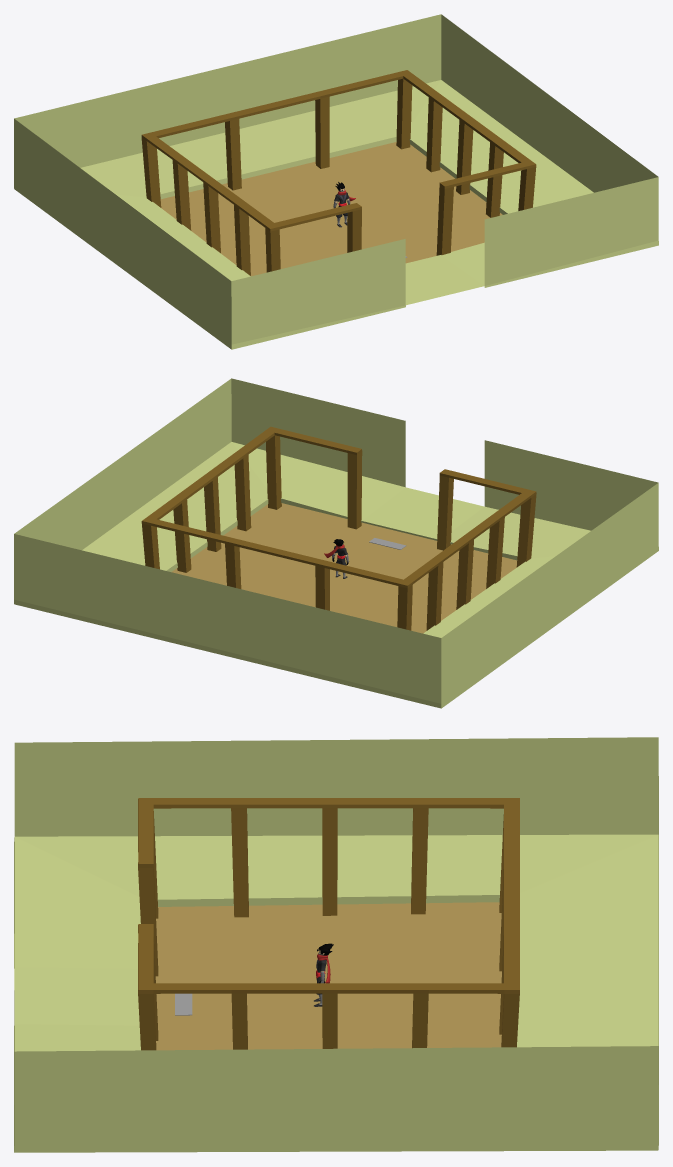
The model's file is HikariLoby.fbx.
The picture shows the model from 3 angles, top to bottom: view 1: azimuth 30°, elevation 25°; view 2: azimuth 150°, elevation 25°; view 3: azimuth 270°, elevation 25°; orthographic projection. The views are drawn at different scales.
Visible parts, largest first — view 1: Cube, Cube.003, Cube.004; view 2: Cube, Cube.004, Cube.003; view 3: Cube, Cube.003, Cube.004, Circle.006.
Boxes of the visible parts, <box> form: Cube: <box>14,14,658,349</box>; Cube.003: <box>160,142,502,276</box>; Cube.004: <box>141,70,536,275</box>; Cube: <box>14,378,658,708</box>; Cube.004: <box>141,426,536,630</box>; Cube.003: <box>171,503,517,633</box>; Cube: <box>14,737,658,1152</box>; Cube.003: <box>155,902,501,1050</box>; Cube.004: <box>138,798,519,1050</box>; Circle.006: <box>314,943,333,1006</box>.
Bounding box in the file's own units: 92.56 × 16.6 × 81.69.
